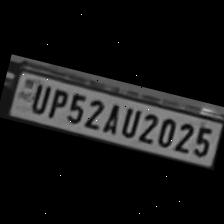0: (151, 112, 177, 148)
2: (78, 94, 106, 132), (133, 107, 160, 145), (170, 116, 196, 154)
5: (188, 119, 214, 160), (61, 86, 88, 124)
A: (97, 98, 123, 135)
P: (43, 84, 68, 120)
U: (24, 78, 51, 115), (116, 102, 142, 138)
